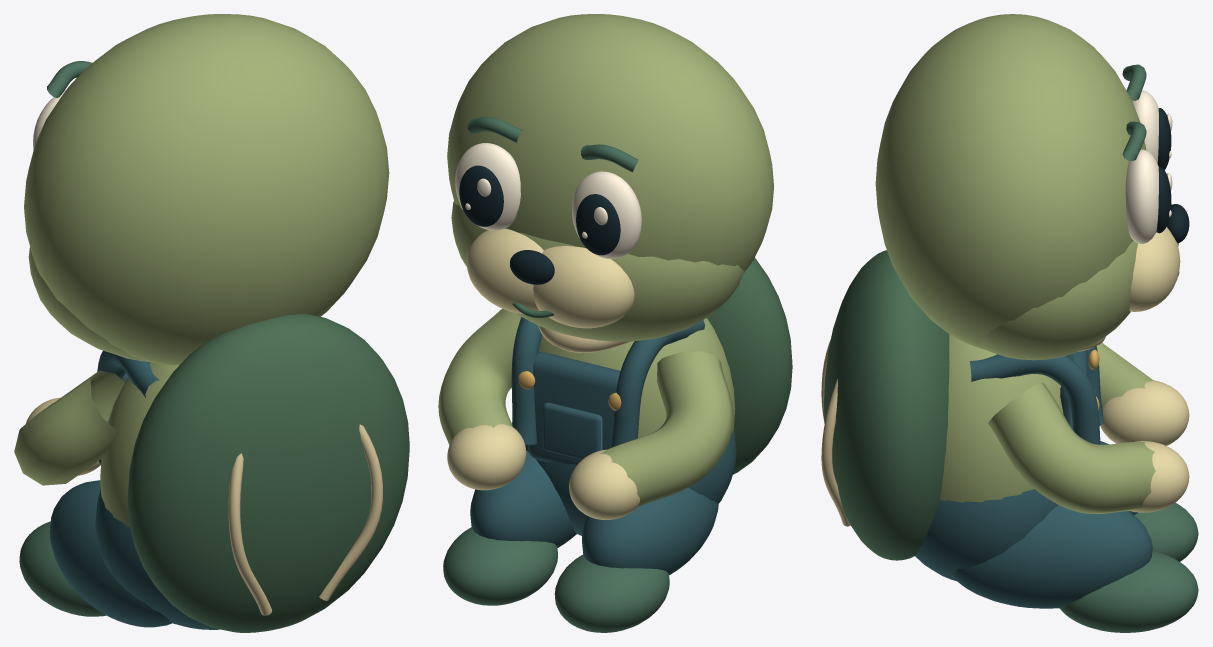
Rendered from tortue.glb.
3 renders of one model, left to right at view 1: azimuth 30°, elevation 25°; view 2: azimuth 150°, elevation 25°; view 3: azimuth 270°, elevation 25°, orthographic. The views are drawn at different scales.
Visible parts, largest first — view 1: Crâne, Carapace, Buste, Salopette, Écaille, Chaussure, Sourcil; view 2: Crâne, Salopette, Buste, Chaussure, Carapace, Museau, Patte, Blanc, Blanc.001, Sourcil, Iris.001, Iris (+2 smaller); view 3: Crâne, Carapace, Salopette, Buste, Chaussure, Patte, Museau, Blanc.001, Écaille, Sourcil, Blanc, Iris.001 (+2 smaller).
Part boxes in pixels (x1,y1,x2,y2): Crâne: [24, 14, 389, 365]; Carapace: [127, 313, 409, 632]; Buste: [14, 362, 179, 527]; Salopette: [49, 350, 219, 629]; Écaille: [228, 424, 382, 615]; Chaussure: [19, 521, 106, 616]; Sourcil: [47, 61, 91, 97]; Crâne: [447, 14, 773, 341]; Salopette: [470, 317, 736, 575]; Buste: [438, 308, 735, 506]; Chaussure: [443, 527, 669, 632]; Carapace: [707, 257, 792, 474]; Museau: [466, 229, 634, 328]; Patte: [447, 424, 639, 519]; Blanc: [572, 171, 641, 259]; Blanc.001: [455, 143, 520, 230]; Sourcil: [467, 116, 638, 318]; Iris.001: [459, 165, 503, 226]; Iris: [576, 194, 620, 255]; Crâne: [875, 14, 1146, 360]; Carapace: [824, 250, 949, 560]; Salopette: [915, 346, 1152, 608]; Buste: [940, 334, 1155, 513]; Chaussure: [1060, 502, 1198, 632]; Patte: [1100, 380, 1189, 512]; Museau: [1129, 203, 1180, 311]; Blanc.001: [1125, 149, 1172, 243]; Écaille: [821, 336, 1105, 526]; Sourcil: [1122, 64, 1179, 276]; Blanc: [1132, 90, 1172, 163]; Iris.001: [1156, 167, 1171, 233].
Size of the model in its own units: 1.18 by 2.05 by 1.24.
